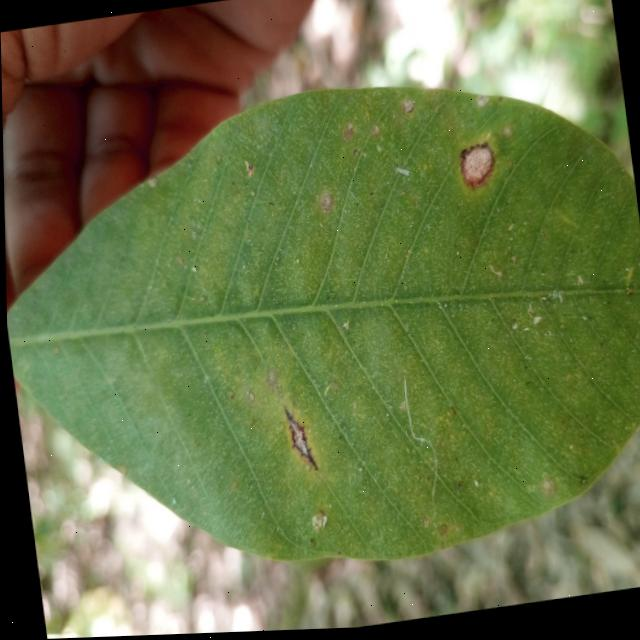Corynespora: (281, 408, 315, 475)
Leaf-Blight: (458, 148, 493, 190)
